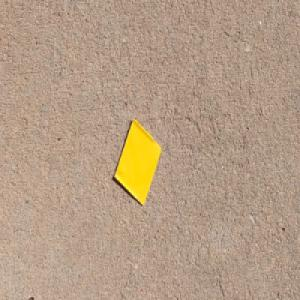PlasticPart: (113, 118, 162, 207)
